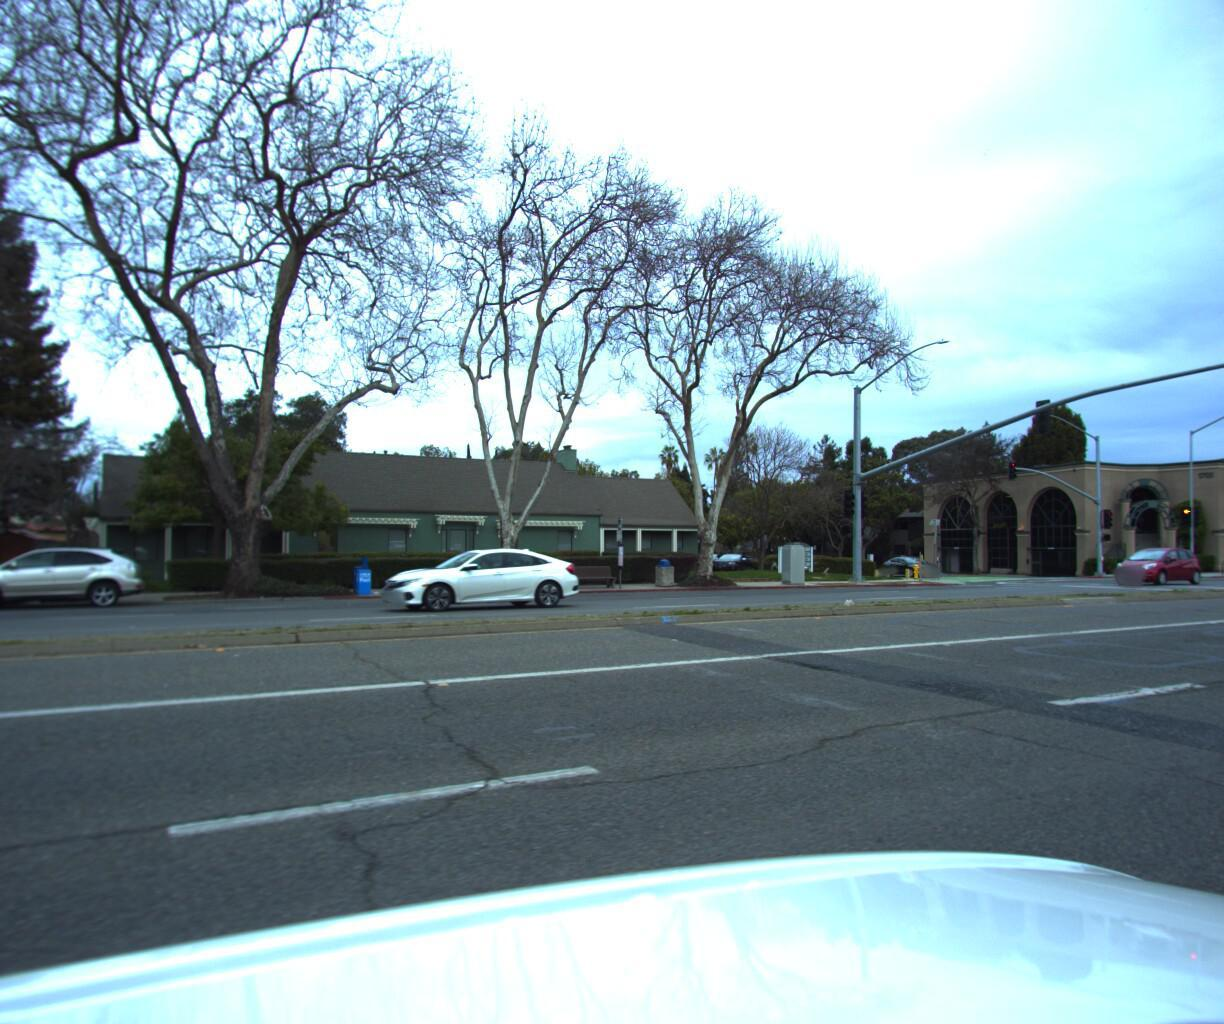car: (372, 539, 577, 613), (0, 548, 145, 618), (1096, 541, 1200, 580), (876, 549, 940, 575)
